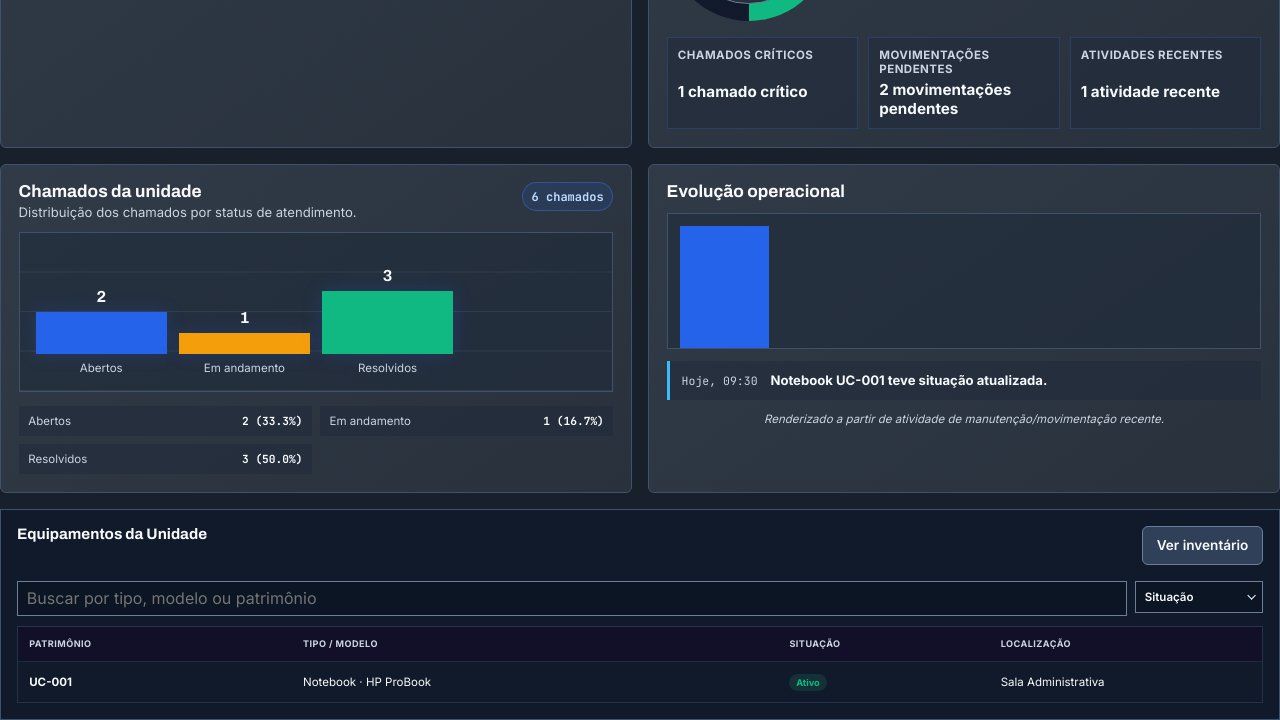
Test case: uses a compact situation menu that applies an option and closes
The width and height of the screenshot is (1280, 720).
(page scrolled)
What coordinates should you click on to do the following:
click the button with aria-label "Filtrar por situação"
I would click on:
 (1199, 597)
Its box is [1135,581,1263,613].
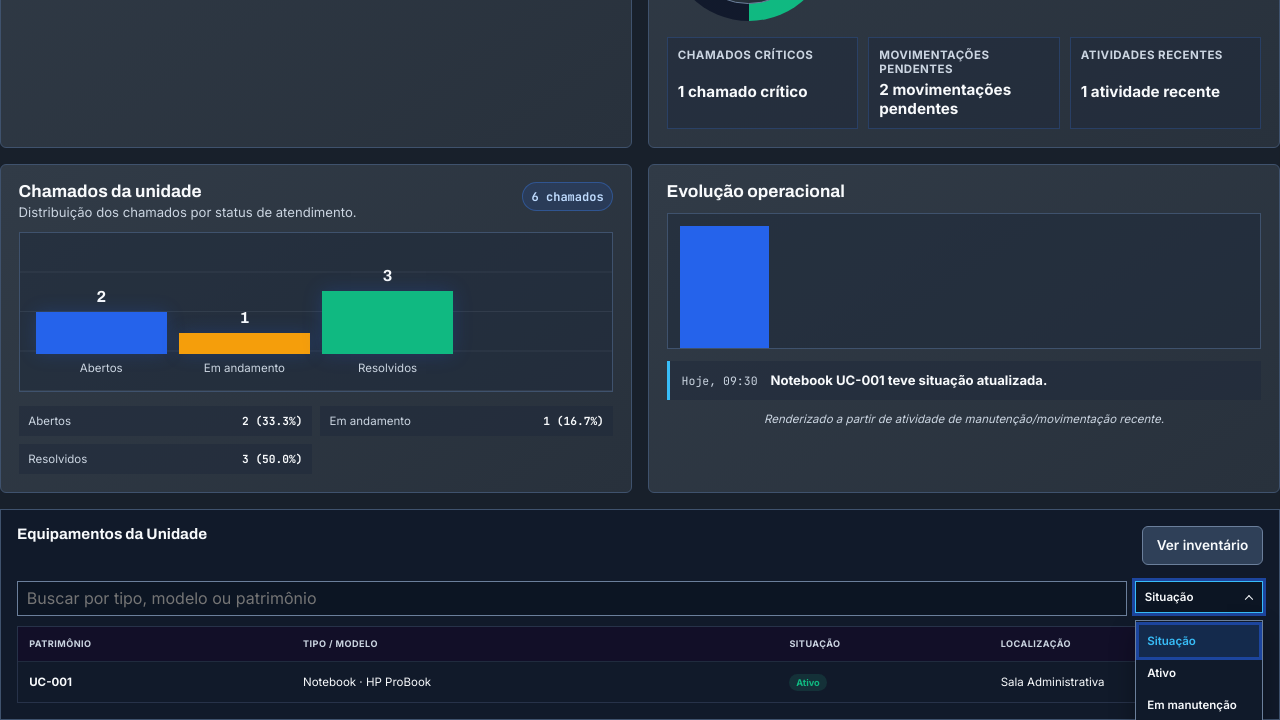
What coordinates should you click on to do the following:
click the option "Em manutenção"
I would click on:
 (1199, 704)
Its box is [1139,688,1259,719].
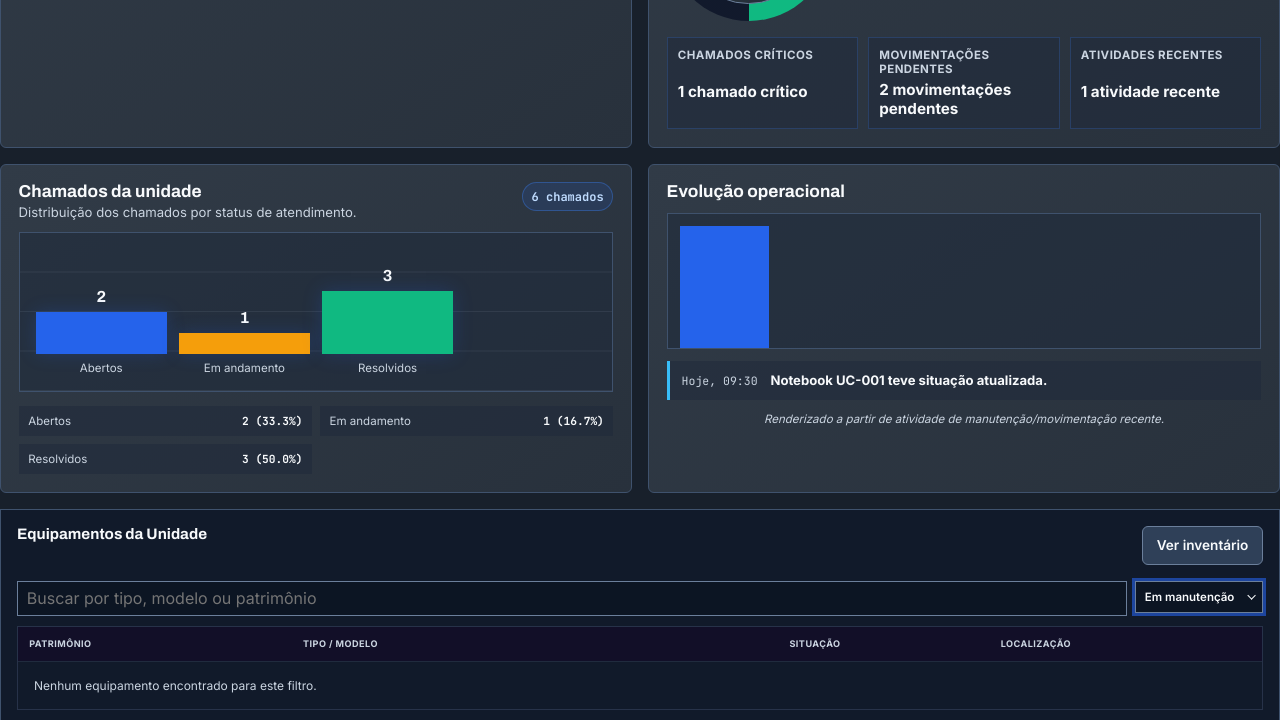
Expected: the button with aria-label "Filtrar por situação" reads "Em manutenção", [1135,581,1263,613]
